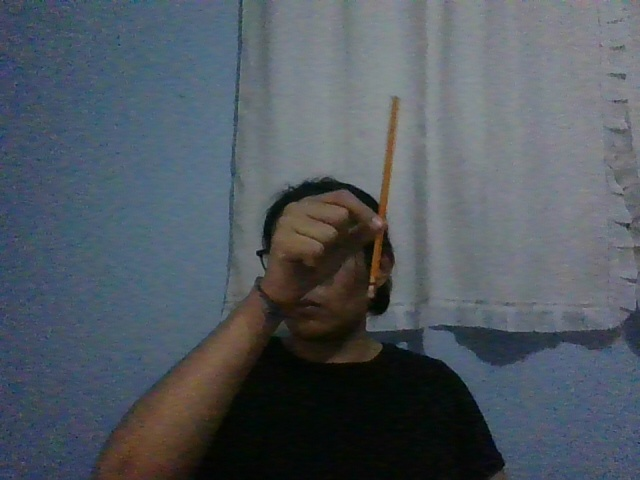lapiz: (366, 95, 401, 299)
